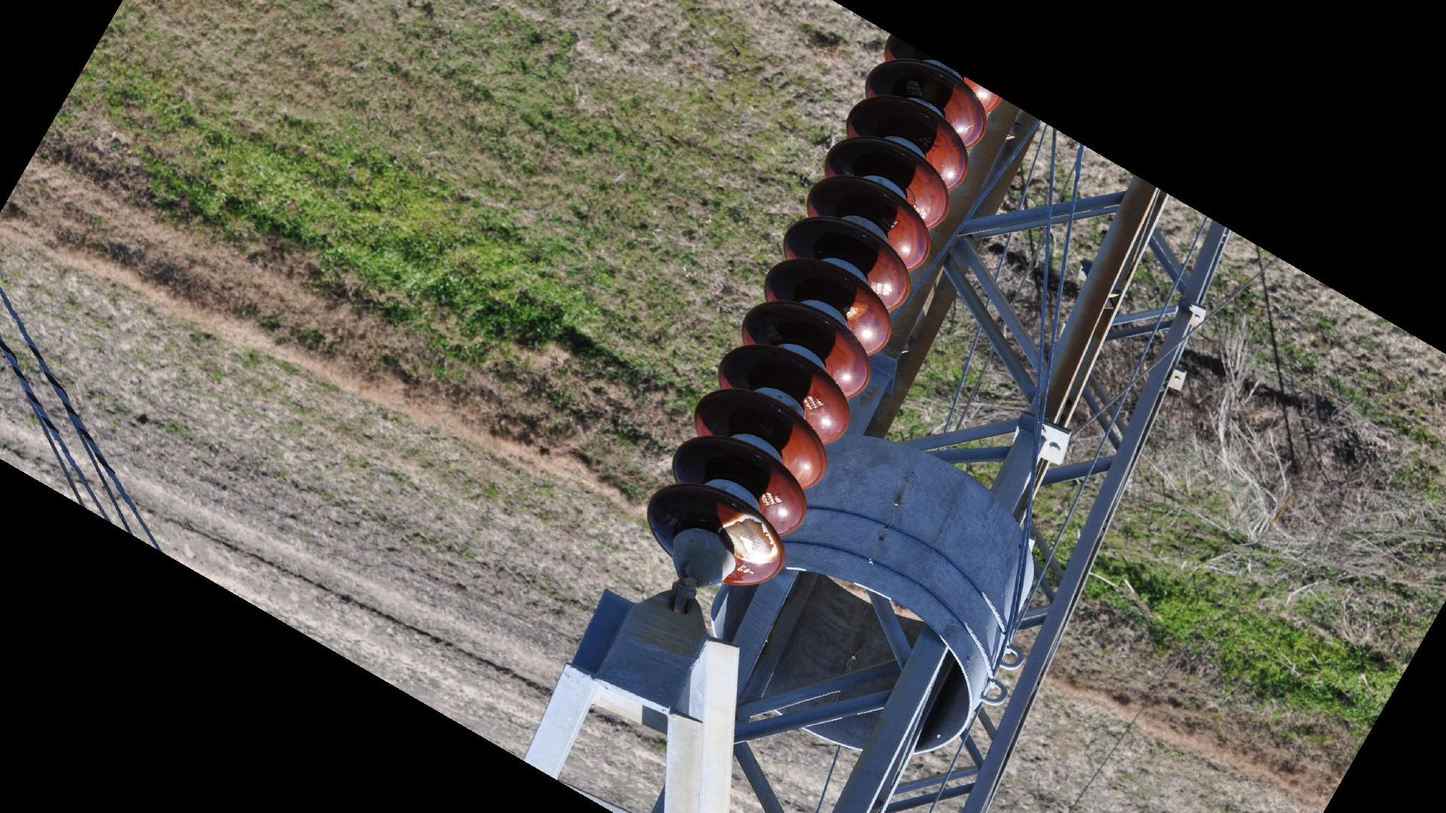insulator: (640, 29, 1005, 596)
insulator_flashover: (717, 513, 782, 568), (840, 300, 871, 321)
